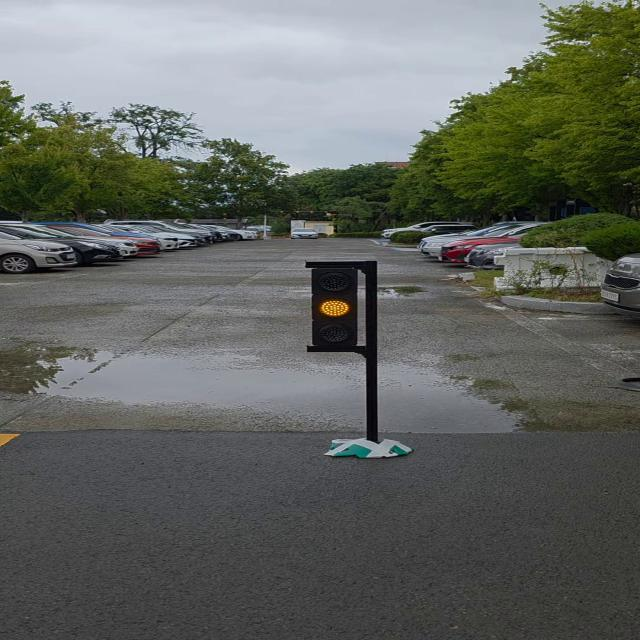yellow: (310, 264, 363, 347)
